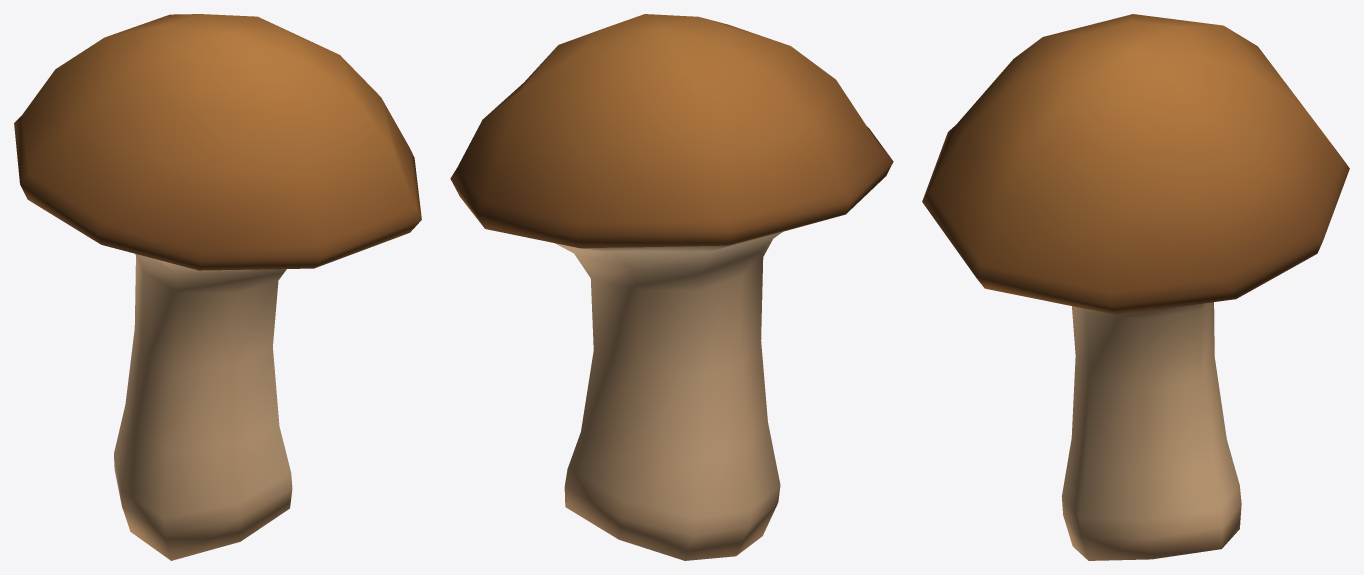
Rendered from SM_PorciniMushroom_C.fbx.
3 renders of one model, left to right at view 1: azimuth 30°, elevation 25°; view 2: azimuth 150°, elevation 25°; view 3: azimuth 270°, elevation 25°, orthographic. The views are drawn at different scales.
Visible parts, largest first — view 1: SM_PorciniMushroom_C; view 2: SM_PorciniMushroom_C; view 3: SM_PorciniMushroom_C.
Part boxes in pixels (x1=…): SM_PorciniMushroom_C: x1=14, y1=14, x2=421, y2=560; SM_PorciniMushroom_C: x1=450, y1=14, x2=893, y2=560; SM_PorciniMushroom_C: x1=922, y1=14, x2=1349, y2=560.
Size of the model in its own units: 26.63 by 33.82 by 25.36.
